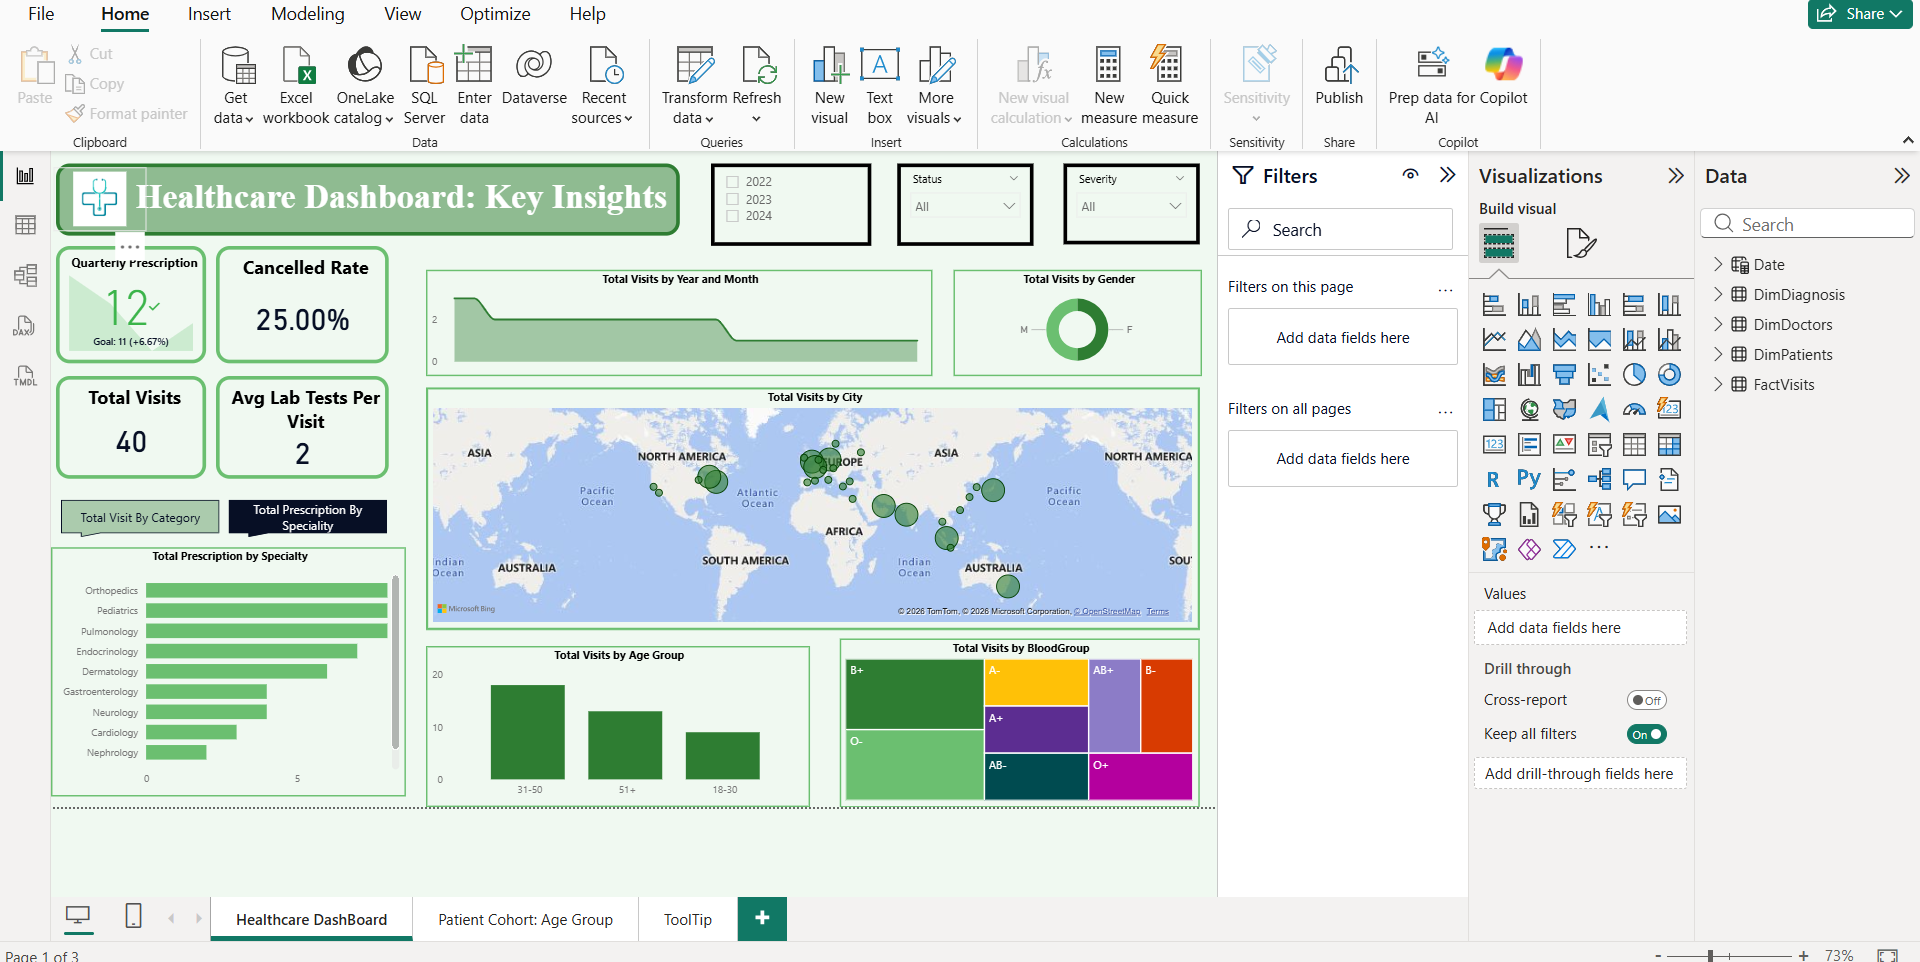

Layout of this report page (visuals, bound fields, positions):
{"tool":"powerbi","page":{"name":"Healthcare DashBoard","canvas":[1280,720],"ordinal":0},"visuals":[{"type":"kpi","title":"Quarterly Prescription","fields":{"TrendLine":["Date.Quarter"],"Goal":["FactVisits.Target Visits"],"Indicator":["Sum(FactVisits.Prescriptions)"]},"box":[5.5,104.3,164.7,129],"z":0},{"type":"card","title":"Total Visits","fields":{"Values":["FactVisits.Total Visits"]},"box":[5.5,247,164.7,112.5],"z":1000},{"type":"card","title":"Cancelled Rate","fields":{"Values":["FactVisits.Cancelled Rate"]},"box":[181.1,104.3,189.4,129],"z":2000},{"type":"card","title":"Avg Lab Tests Per Visit","fields":{"Values":["FactVisits.Avg. Prescriptions per Visit"]},"box":[181.1,247,189.4,112.5],"z":3000},{"type":"areaChart","fields":{"Category":["Date.Year","Date.Month"],"Y":["FactVisits.Total Visits"]},"box":[411.7,130.4,555.7,116.6],"z":4000},{"type":"slicer","fields":{"Values":["Date.Year"]},"box":[724.5,13.7,175.6,90.6],"z":6000},{"type":"map","fields":{"Category":["DimPatients.City"],"Size":["FactVisits.Total Visits"]},"box":[411.7,259.3,849.4,266.2],"z":7000},{"type":"donutChart","fields":{"Category":["DimPatients.Gender"],"Y":["FactVisits.Total Visits"]},"box":[990.7,130.4,273.1,116.6],"z":8000},{"type":"columnChart","fields":{"Category":["DimPatients.Age Group"],"Y":["FactVisits.Total Visits"]},"box":[411.7,543.4,421.3,177],"z":9000},{"type":"treemap","fields":{"Group":["DimPatients.BloodGroup"],"Values":["FactVisits.Total Visits"]},"box":[865.9,535.2,395.2,185.2],"z":10000},{"type":"barChart","fields":{"Category":["DimDoctors.Specialty"],"Y":["FactVisits.Total Prescription"]},"box":[0,434.7,389.9,273.4],"z":11000},{"type":"slicer","fields":{"Values":["FactVisits.Status"]},"box":[929,13.7,149.6,90.6],"z":12000},{"type":"slicer","fields":{"Values":["DimDiagnosis.Severity"]},"box":[1111.5,13.7,149.6,89.2],"z":13000},{"type":"textbox","box":[5.5,13.7,684.7,79.6],"z":14000},{"type":"image","box":[2.7,17.8,101.5,70],"z":15000},{"type":"bookmarkNavigator","box":[11,382.8,359.5,41.2],"z":16000}]}

Visuals, with their boxes on the page's 1280x720 design canvas (x1, y1, x2, y2). These are canvas units, not pixel positions in the 1920x962 screenshot, which may show the page scaled, cropped or inside an application window:
"Quarterly Prescription" kpi: <box>6,104,170,233</box>
"Total Visits" card: <box>6,247,170,360</box>
"Cancelled Rate" card: <box>181,104,370,233</box>
"Avg Lab Tests Per Visit" card: <box>181,247,370,360</box>
areaChart - Date.Year x Date.Month: <box>412,130,967,247</box>
slicer - Date.Year: <box>724,14,900,104</box>
map - DimPatients.City x FactVisits.Total Visits: <box>412,259,1261,526</box>
donutChart - DimPatients.Gender x FactVisits.Total Visits: <box>991,130,1264,247</box>
columnChart - DimPatients.Age Group x FactVisits.Total Visits: <box>412,543,833,720</box>
treemap - DimPatients.BloodGroup x FactVisits.Total Visits: <box>866,535,1261,720</box>
barChart - DimDoctors.Specialty x FactVisits.Total Prescription: <box>0,435,390,708</box>
slicer - FactVisits.Status: <box>929,14,1079,104</box>
slicer - DimDiagnosis.Severity: <box>1112,14,1261,103</box>
textbox: <box>6,14,690,93</box>
image: <box>3,18,104,88</box>
bookmarkNavigator: <box>11,383,370,424</box>
